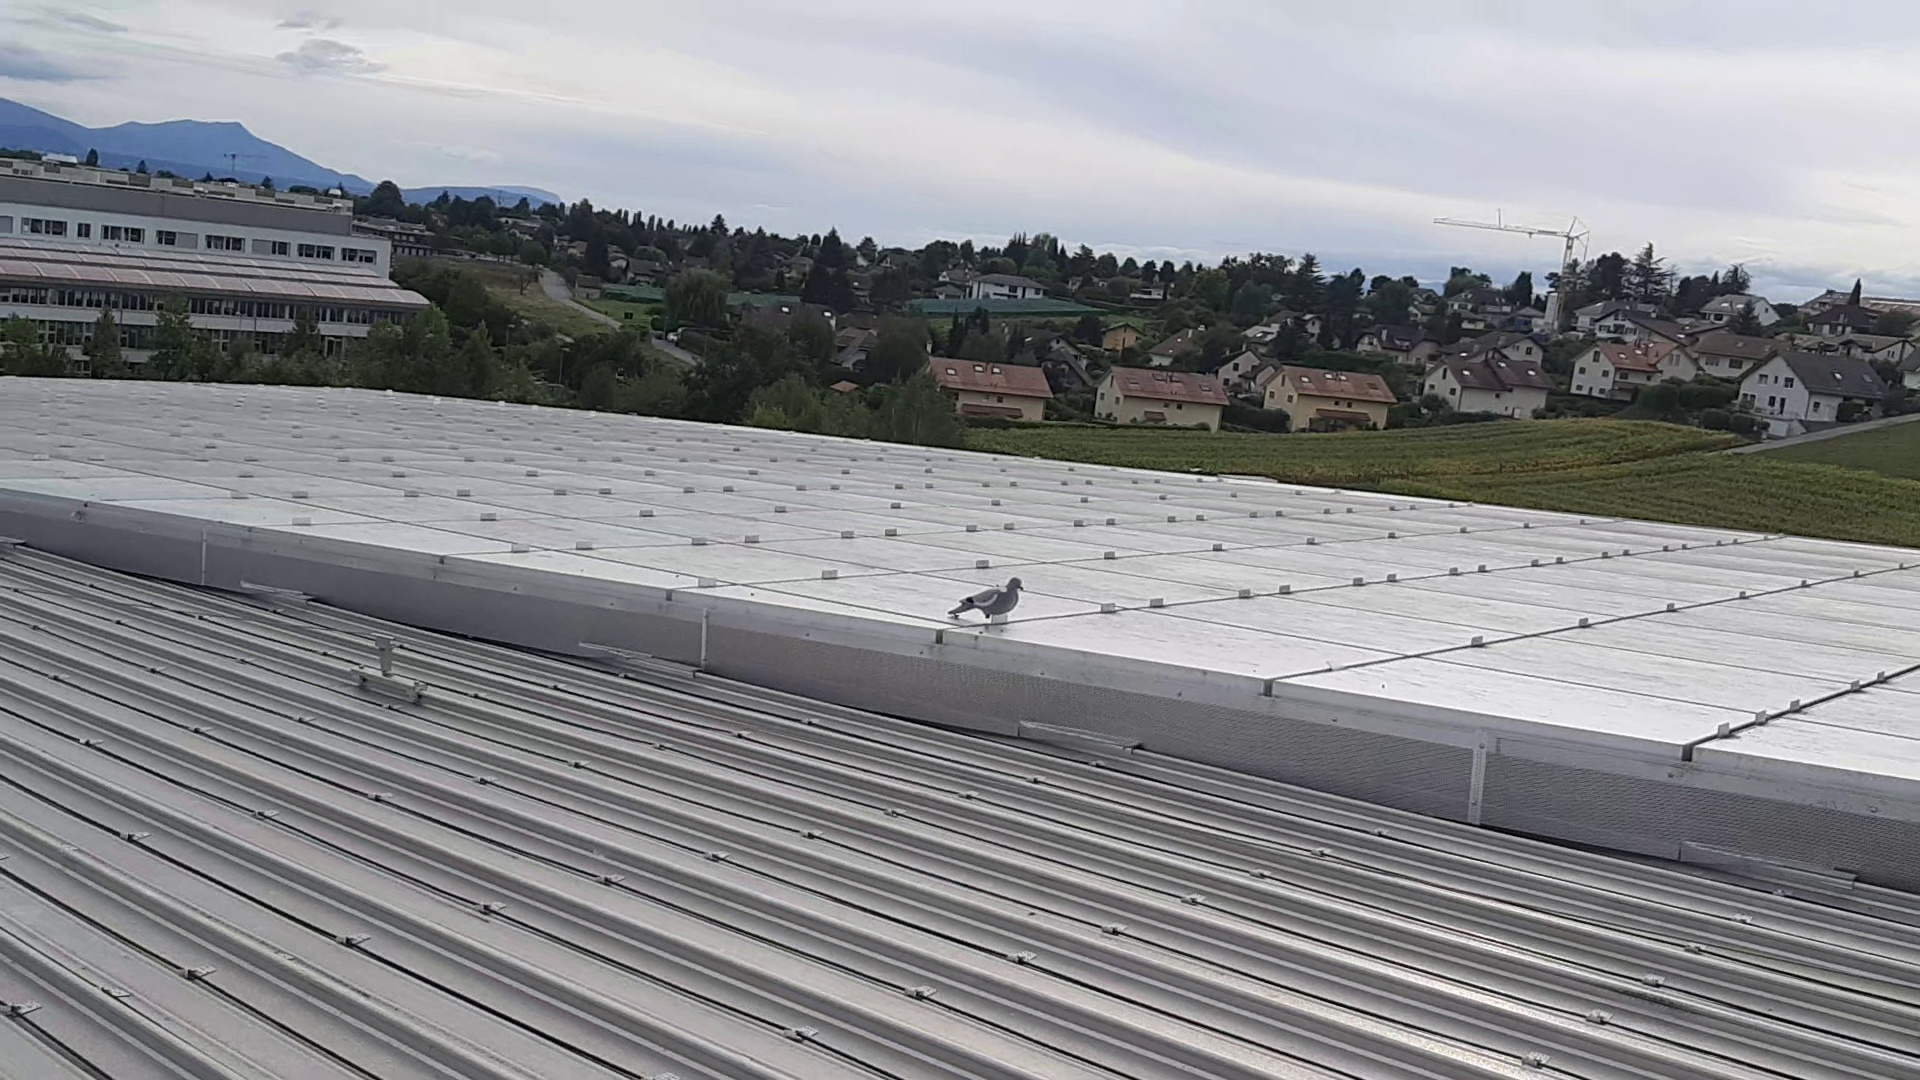Pigeon: (939, 572, 1033, 626)
